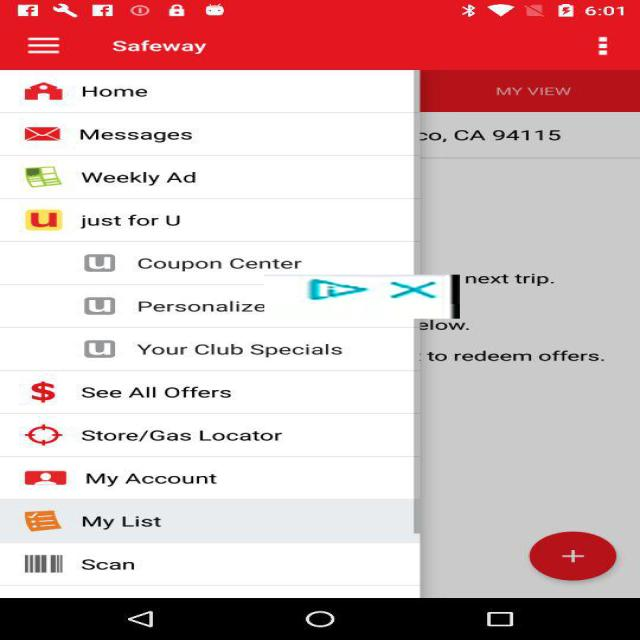sneaking: (264, 274, 460, 318)
